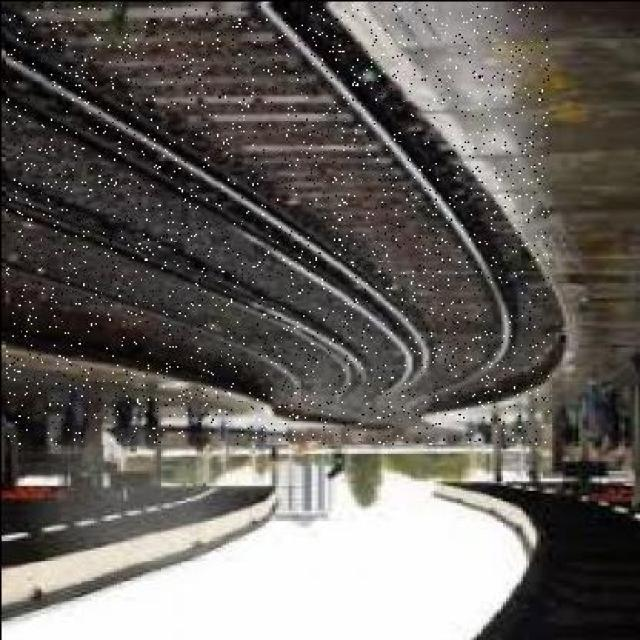rail: (5, 3, 548, 442)
